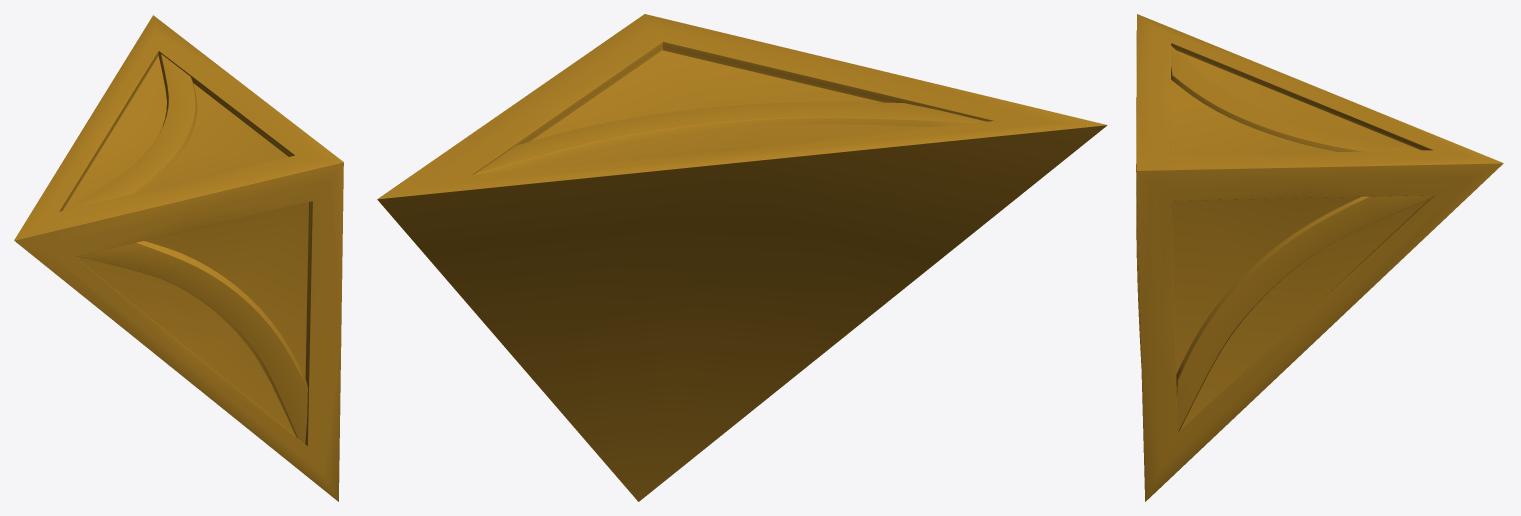
The model's file is Holocron_Esquina_08.obj.
3 renders of one model, left to right at view 1: azimuth 30°, elevation 25°; view 2: azimuth 150°, elevation 25°; view 3: azimuth 270°, elevation 25°, orthographic. The views are drawn at different scales.
Parts seen in each view (by area): view 1: Holocron_Esquina_08; view 2: Holocron_Esquina_08; view 3: Holocron_Esquina_08.
Boxes of the visible parts, x1,y1,x2,y2 form: Holocron_Esquina_08: [14, 15, 343, 501]; Holocron_Esquina_08: [377, 14, 1107, 501]; Holocron_Esquina_08: [1136, 14, 1503, 501].
Bounding box in the file's own units: 5.15 × 5.21 × 5.17.
